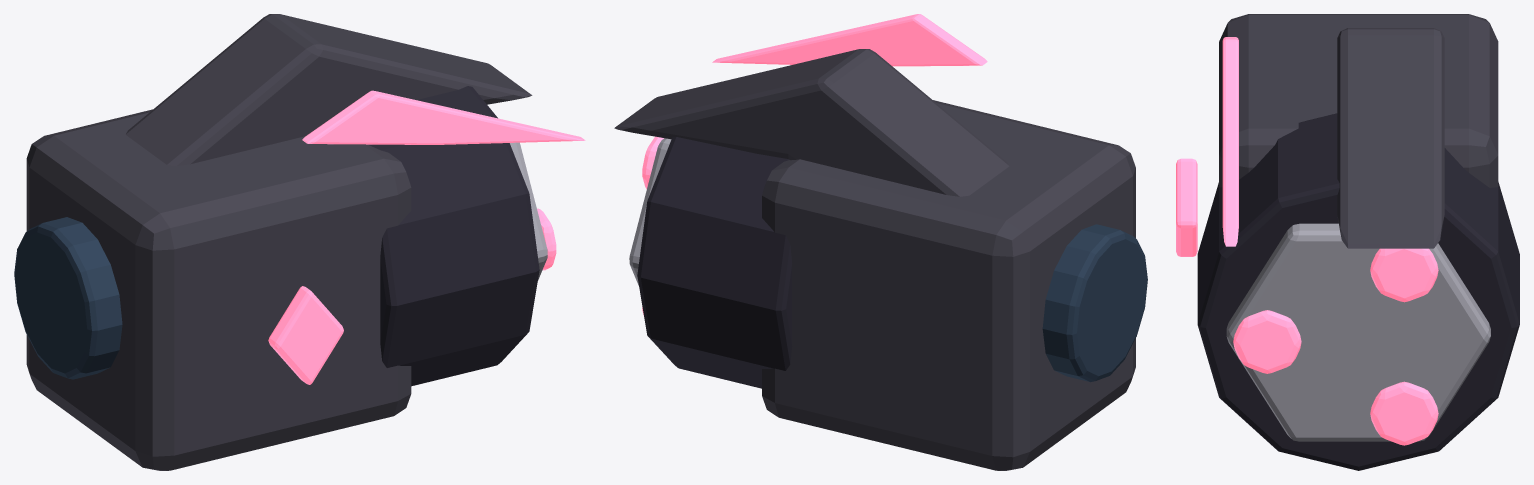
The model's file is switch_driver.glb.
3 renders of one model, left to right at view 1: azimuth 30°, elevation 25°; view 2: azimuth 150°, elevation 25°; view 3: azimuth 270°, elevation 25°, orthographic. The views are drawn at different scales.
Visible parts, largest first — view 1: ModuleArmor; view 2: ModuleArmor; view 3: ModuleArmor.
Part boxes in pixels (box(x1,y1,x2,y2)): ModuleArmor: box(14, 14, 585, 470); ModuleArmor: box(614, 14, 1147, 470); ModuleArmor: box(1176, 14, 1519, 470).
Bounding box in the file's own units: 1.06 × 0.7506 × 0.64.
